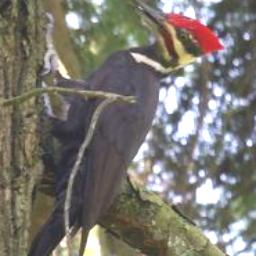Woodpecker: (18, 0, 226, 256)
